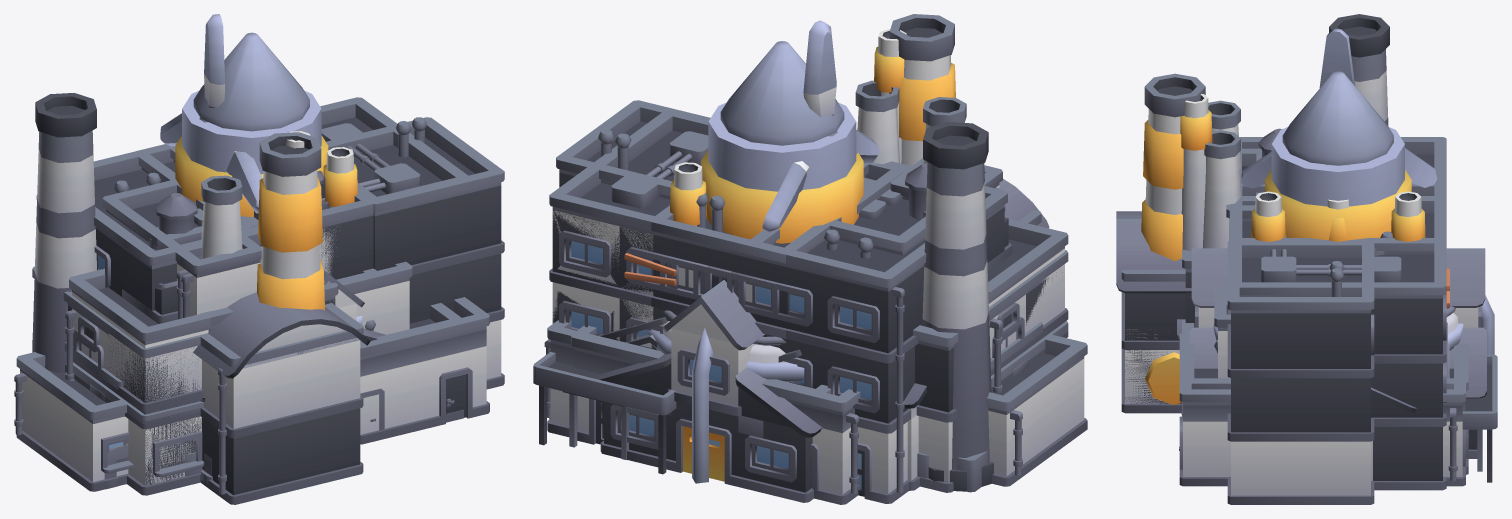
File: industry.glb
The picture shows the model from 3 angles, left to right: view 1: azimuth 30°, elevation 25°; view 2: azimuth 150°, elevation 25°; view 3: azimuth 270°, elevation 25°; orthographic projection. The views are drawn at different scales.
Parts seen in each view (by area): view 1: building-n, building-f, building-l, building-r, building-a, building-c, building-q, water-tower, chimney-large, building-h, building-b, building-e (+5 smaller); view 2: building-a, building-f, building-m, building-q, building-l, chimney-large, building-b, building-d, building-c, water-tower, building-r, detail-tank-large (+6 smaller); view 3: building-r, building-a, building-c, building-m, chimney-large, building-b, building-n, building-l, water-tower, building-o, building-e, building-f (+5 smaller).
Boxes of the visible parts, x1=… form: building-n: x1=157, y1=131, x2=370, y2=504; building-f: x1=32, y1=93, x2=337, y2=495; building-l: x1=14, y1=132, x2=412, y2=491; building-r: x1=64, y1=117, x2=504, y2=396; building-a: x1=36, y1=97, x2=470, y2=310; building-c: x1=201, y1=297, x2=489, y2=484; building-q: x1=32, y1=266, x2=463, y2=494; water-tower: x1=193, y1=32, x2=309, y2=131; chimney-large: x1=175, y1=90, x2=328, y2=217; building-h: x1=70, y1=362, x2=205, y2=495; building-b: x1=148, y1=97, x2=471, y2=274; building-e: x1=200, y1=175, x2=338, y2=331; building-a: x1=549, y1=109, x2=1007, y2=503; building-f: x1=922, y1=122, x2=1068, y2=491; building-m: x1=595, y1=162, x2=822, y2=502; building-q: x1=563, y1=250, x2=1068, y2=504; building-l: x1=889, y1=14, x2=1087, y2=486; chimney-large: x1=701, y1=102, x2=863, y2=243; building-b: x1=549, y1=109, x2=925, y2=419; building-d: x1=651, y1=163, x2=902, y2=438; building-c: x1=533, y1=320, x2=831, y2=474; water-tower: x1=720, y1=41, x2=844, y2=145; building-r: x1=556, y1=100, x2=1042, y2=374; detail-tank-large: x1=648, y1=310, x2=804, y2=483; building-r: x1=1227, y1=240, x2=1449, y2=504; building-a: x1=1230, y1=128, x2=1446, y2=482; building-c: x1=1145, y1=237, x2=1497, y2=486; building-m: x1=1189, y1=191, x2=1486, y2=458; chimney-large: x1=1265, y1=127, x2=1411, y2=240; building-b: x1=1230, y1=196, x2=1449, y2=490; building-n: x1=1116, y1=94, x2=1261, y2=413; building-l: x1=1141, y1=73, x2=1230, y2=378; water-tower: x1=1282, y1=71, x2=1393, y2=165; building-o: x1=1121, y1=269, x2=1185, y2=413; building-e: x1=1182, y1=100, x2=1240, y2=327; building-f: x1=1185, y1=14, x2=1389, y2=260.
Bounding box in the file's own units: 4.73 × 4.05 × 3.82.
Materials: 1 (1 with a texture image).
